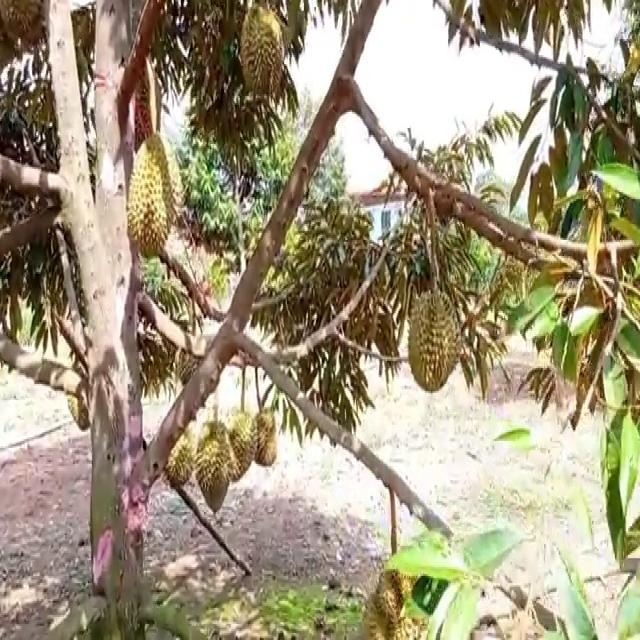durian: (126, 127, 184, 257), (406, 278, 464, 392), (358, 560, 440, 638), (236, 7, 287, 100), (195, 414, 232, 517), (220, 407, 258, 485), (158, 415, 196, 488), (248, 405, 280, 471)
